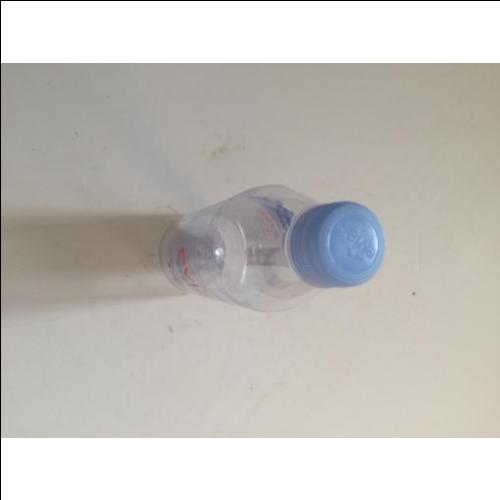plastic: (162, 182, 387, 309)
